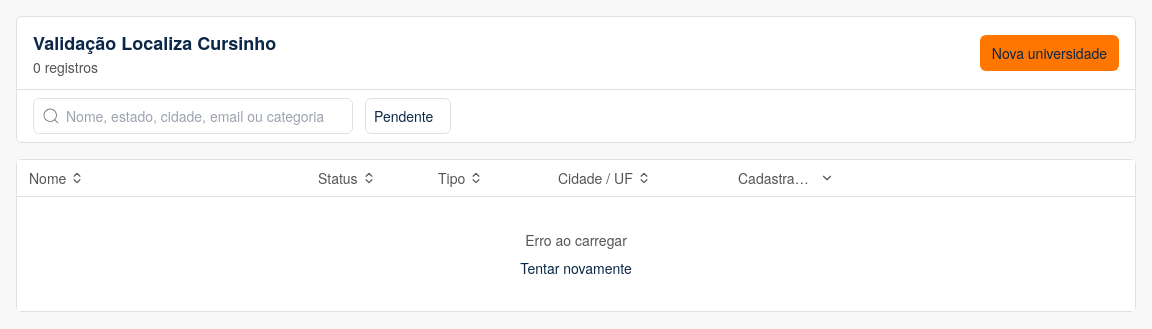
it: DashGeo (V2) › erro na carga mostra 'tentar de novo', que recarrega
Click the button "Tentar novamente".
click(576, 268)  # box [520,258,632,278]
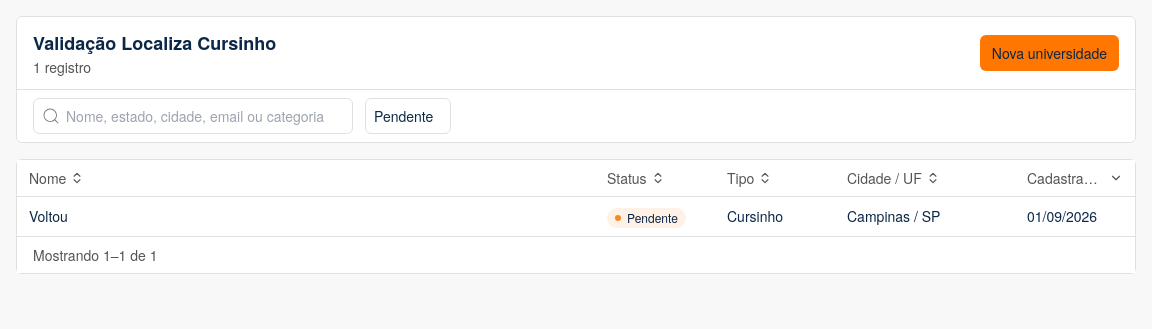
expect the text "Voltou" is shown: met, box [29,206,68,226]
